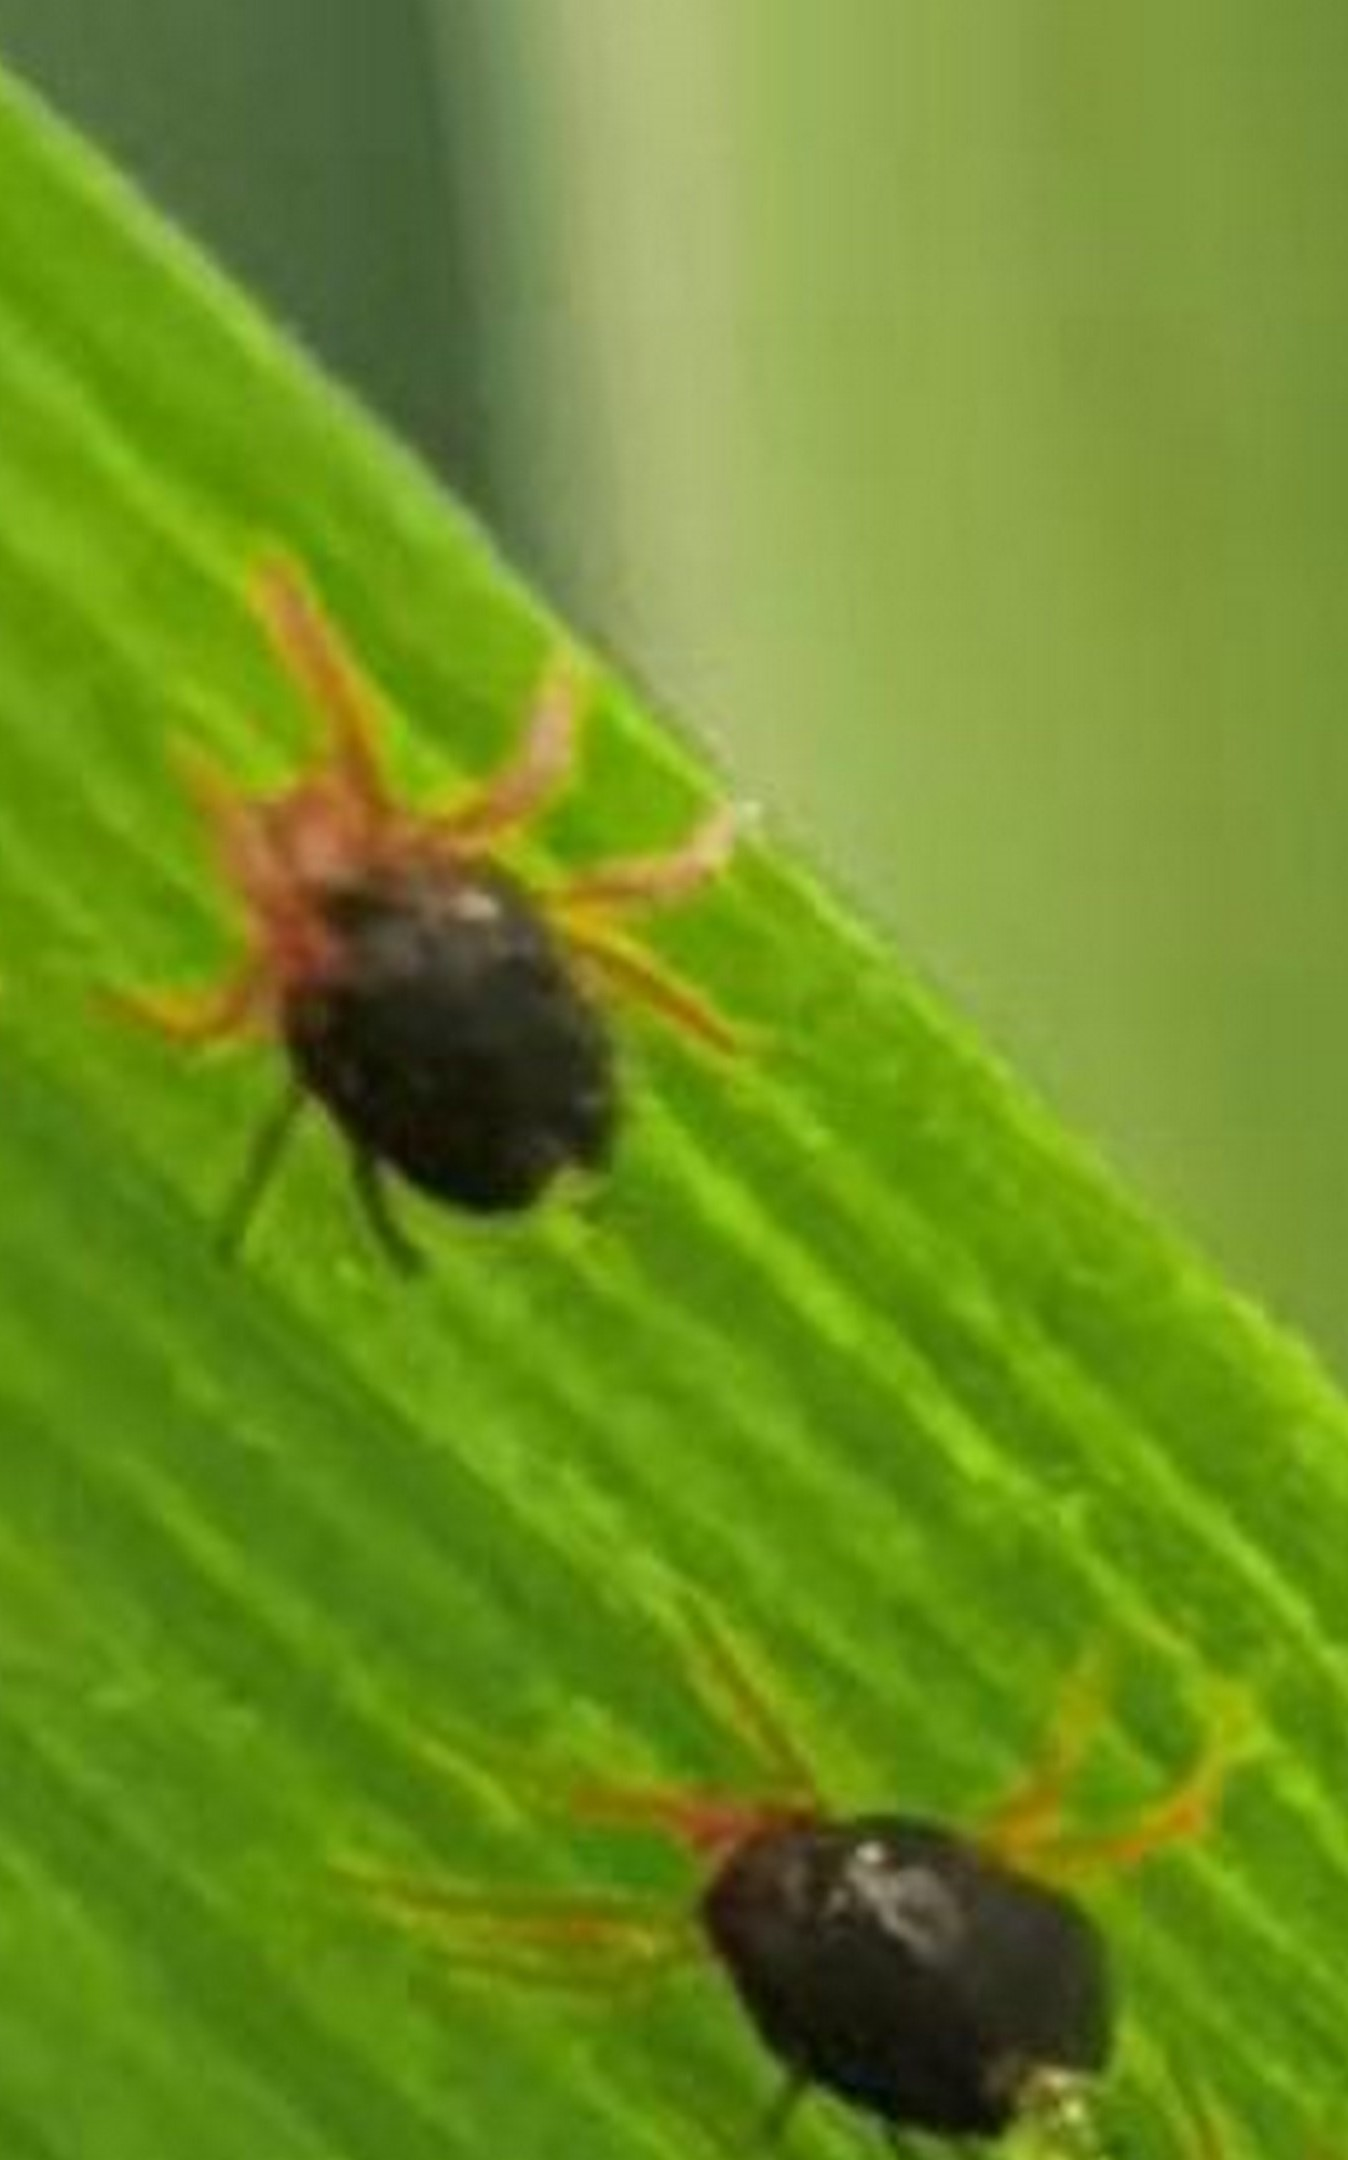Wheat Red Spider: (43, 519, 790, 1332)
